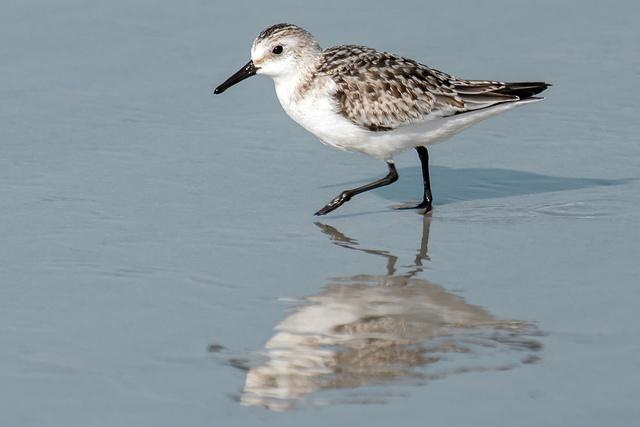bird: (209, 17, 552, 215)
